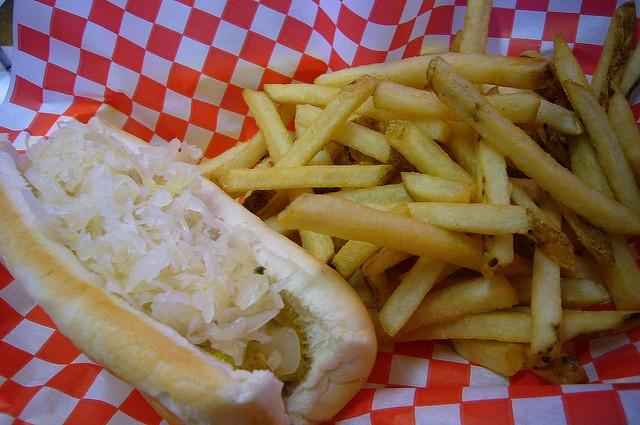onion: (189, 306, 280, 341), (247, 318, 300, 378), (124, 240, 169, 293), (234, 274, 268, 312), (140, 205, 176, 237), (268, 268, 304, 294), (183, 199, 220, 223), (192, 290, 215, 324), (136, 225, 162, 253), (40, 155, 66, 177), (110, 260, 133, 277), (146, 280, 177, 292), (46, 205, 82, 215), (88, 264, 108, 280), (100, 222, 128, 233), (92, 215, 103, 242), (91, 141, 112, 154), (148, 154, 165, 170), (76, 244, 92, 260), (190, 222, 204, 238), (56, 121, 74, 130), (260, 300, 274, 310), (138, 187, 154, 195), (76, 136, 85, 150), (234, 233, 245, 242), (142, 178, 150, 190), (37, 138, 49, 145), (62, 175, 72, 183), (208, 276, 215, 284)
